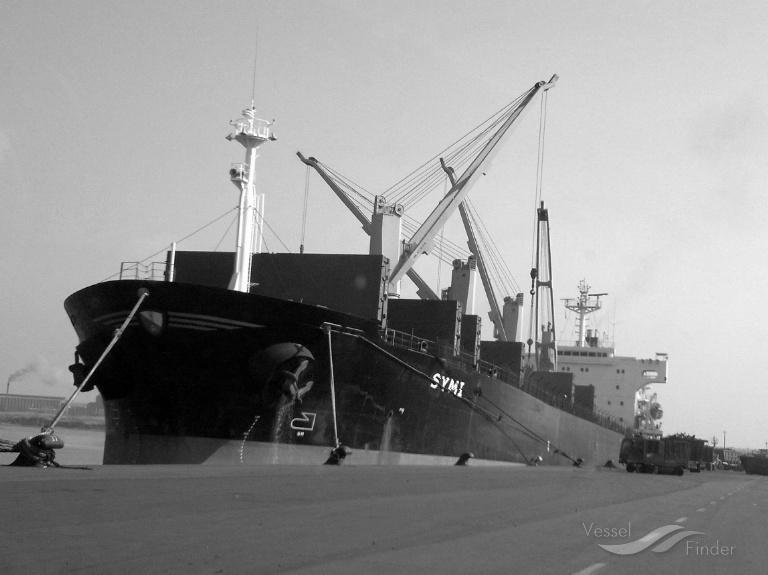OCR: (420, 362, 472, 398)
